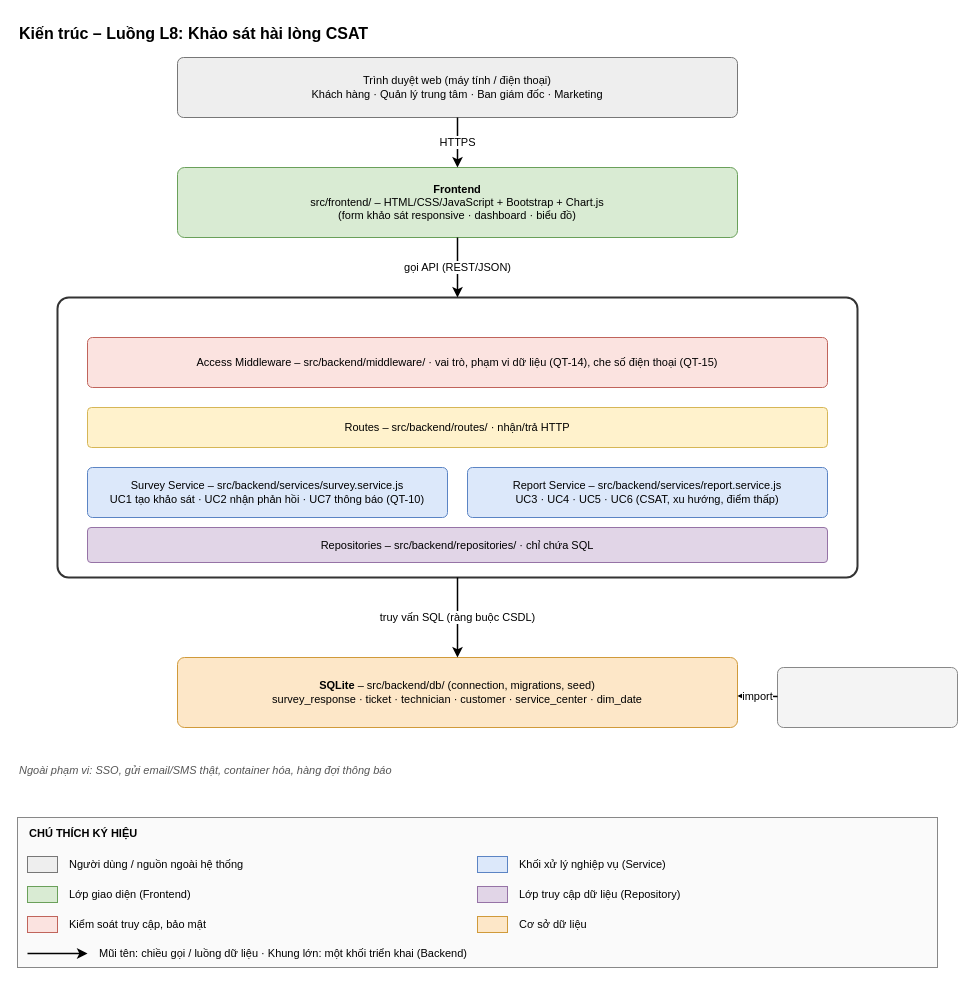
This 975x985 diagram has some shape labels left out. The shapes that lost their labels are listed below. From the top down, each one's box as (x1, y1, x2, y2) in pixels, then its label:
(56, 296, 858, 578): Backend API (Node.js / Express)
(776, 666, 958, 728): CSV mẫu (data/raw) survey_responses · tickets_history · technicians
